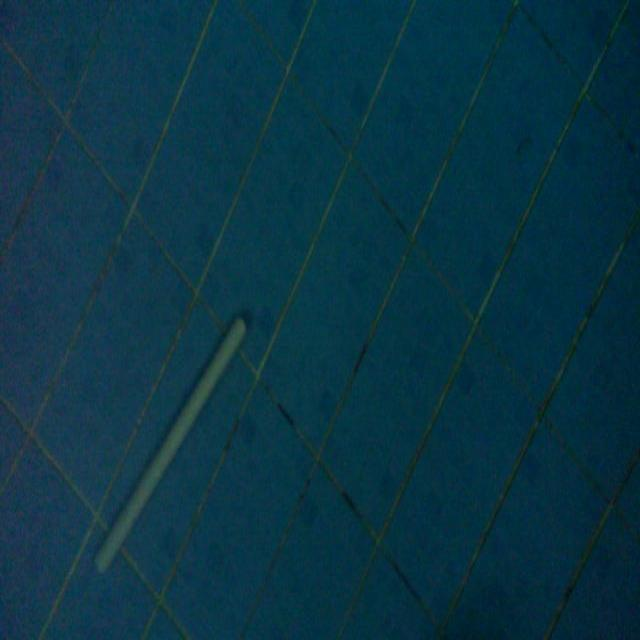Cube: (93, 304, 252, 576)
